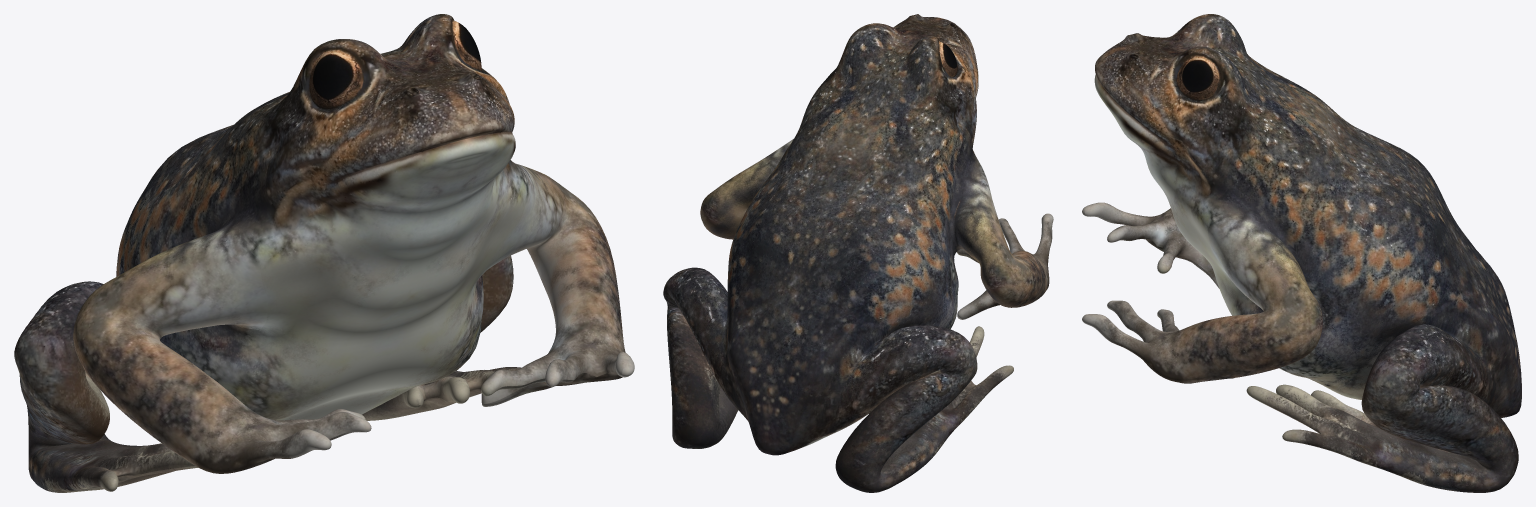
File: frog.glb
3 views of the same model, side by side, from view 1: azimuth 30°, elevation 25°; view 2: azimuth 150°, elevation 25°; view 3: azimuth 270°, elevation 25° (orthographic). The views are drawn at different scales.
Visible parts, largest first — view 1: frog; view 2: frog; view 3: frog.
Part boxes in pixels (bbox=[...]): frog: bbox=[14, 14, 634, 492]; frog: bbox=[663, 14, 1053, 492]; frog: bbox=[1082, 14, 1521, 492].
Bounding box in the file's own units: 2.15 × 2.2 × 2.17.
1 material, 1 textured.
